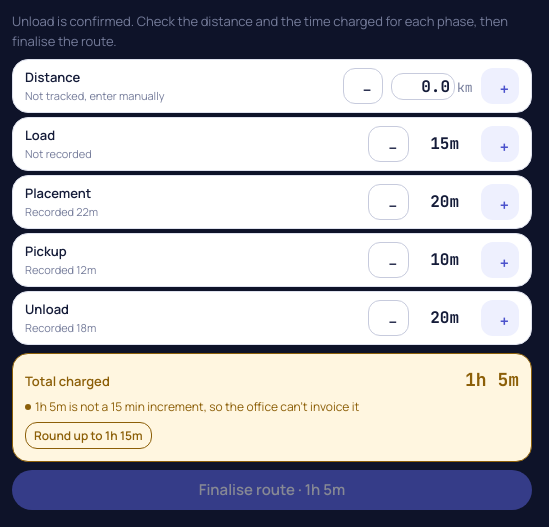
Test: AdministratorFinalisePanel › blocks finalising until the total lands on 15 minutes and the distance is valid
Check: the button "Finalise route · 1h 5m" is disabled, box [12,470,532,510]
Click the button "Round up to 1h 15m" at [88, 435], box [25,422,152,449]
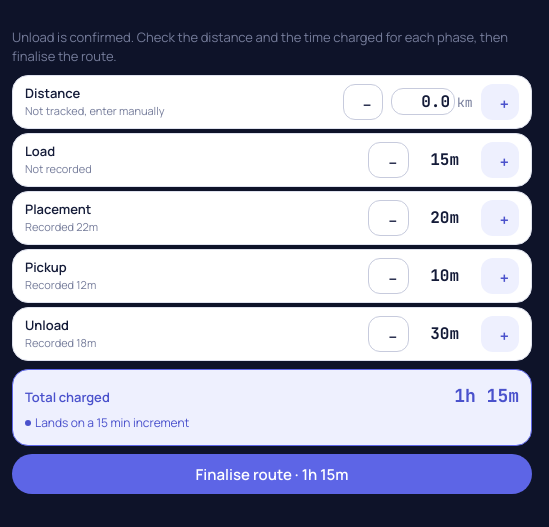
Check: the button "Finalise route · 1h 15m" is enabled, box [12,454,532,494]
Clear the field named "Distance (km)" at [423, 102], box [391,88,455,115]
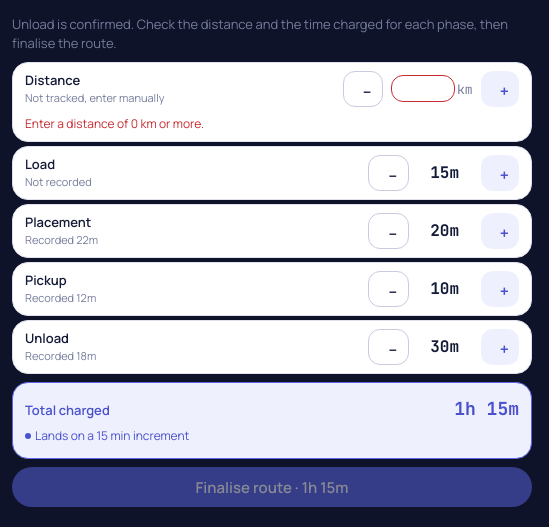
Check: the button "Finalise route · 1h 15m" is disabled, box [12,467,532,507]
